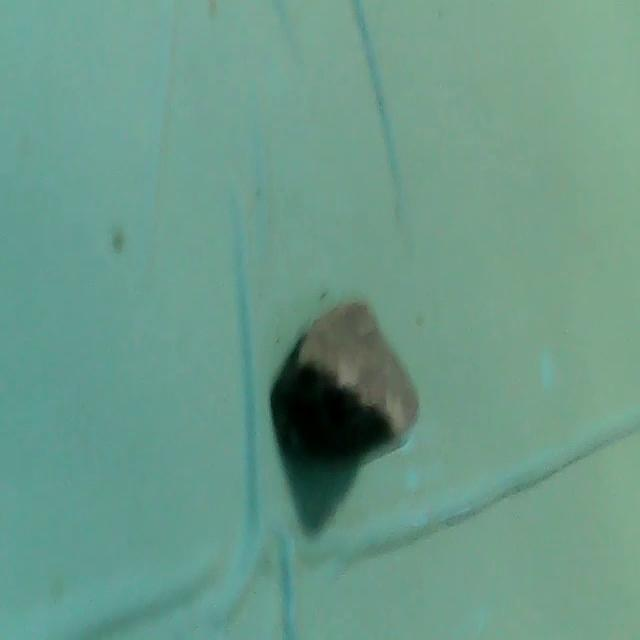rock: (268, 296, 424, 471)
